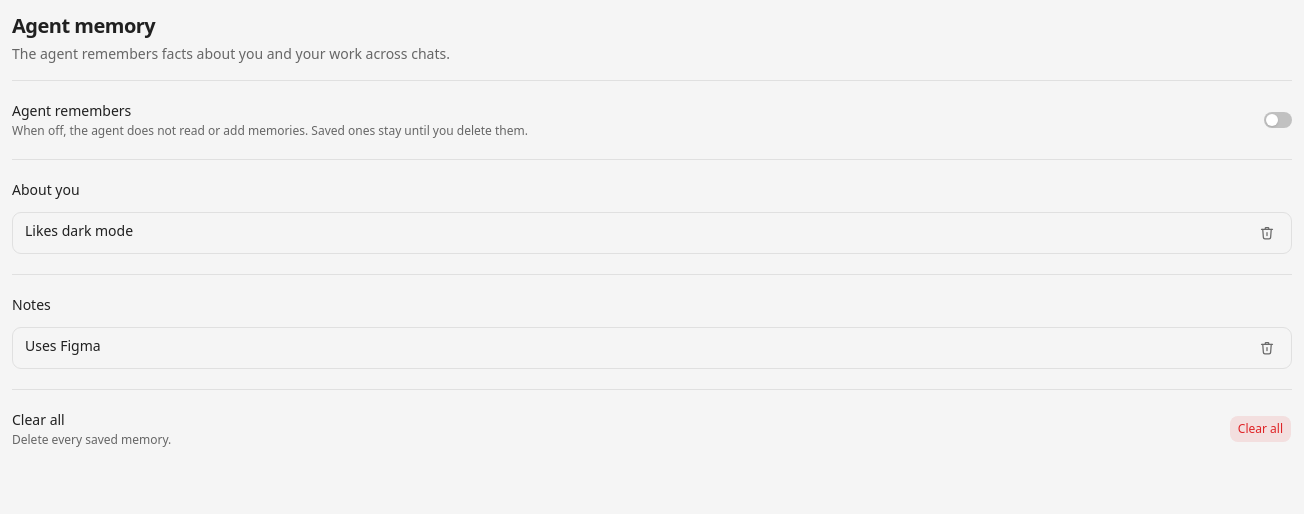
MemorySection › disables the switch while saving and rolls back to the value before the click
Step 1. Click the switch named "Agent remembers" → (1278, 120), box [1264,112,1292,128]
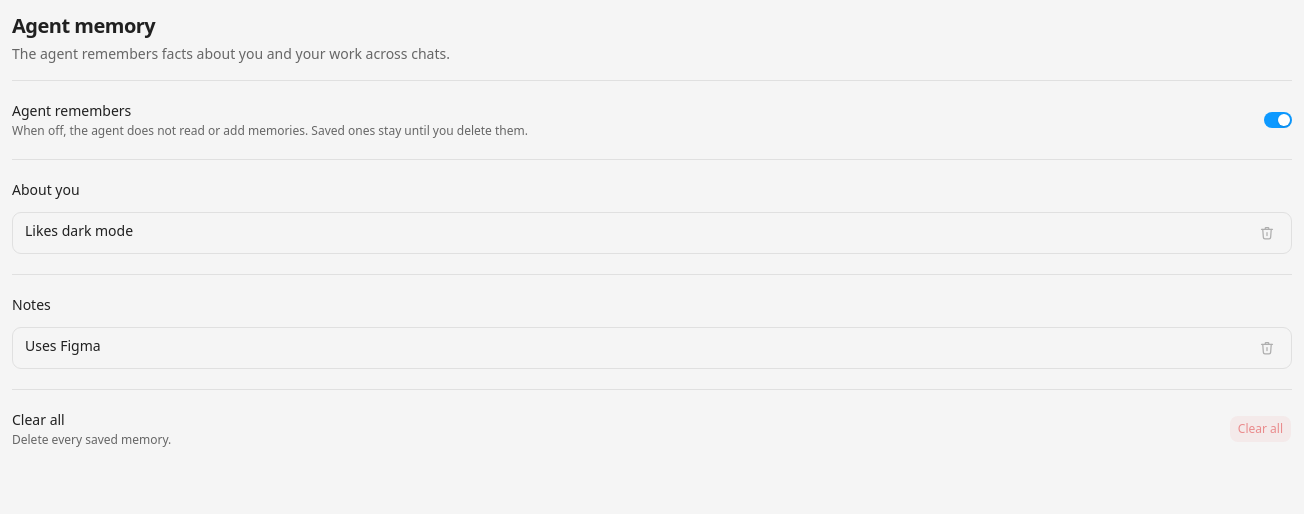
Expected: the switch named "Agent remembers" has attribute data-disabled
Step 2. Click the switch named "Agent remembers" → (1278, 120), box [1264,112,1292,128]
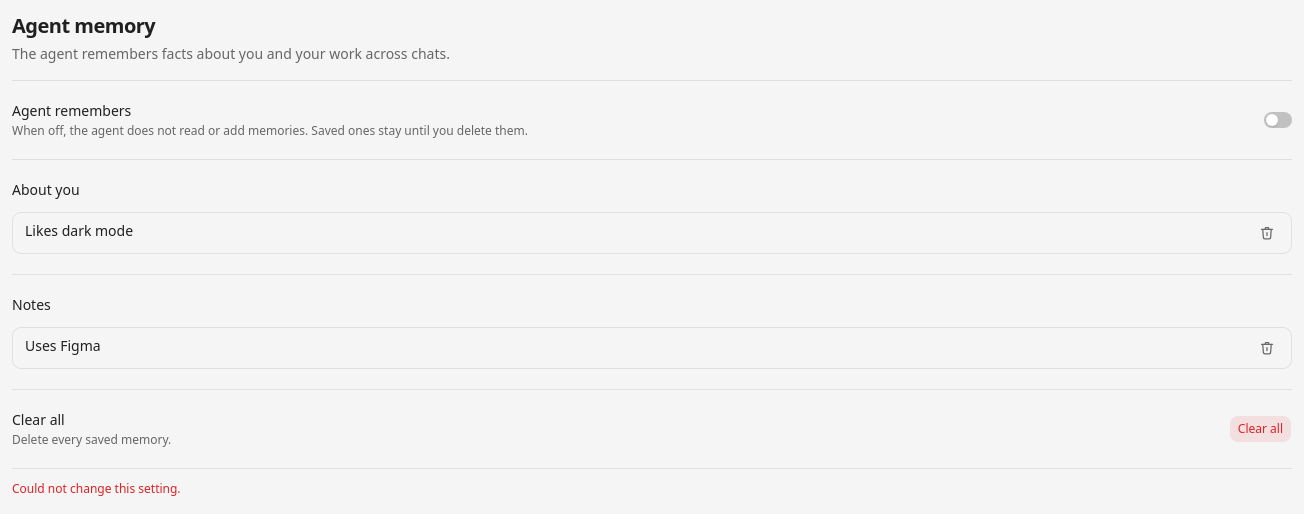
Expected: the text "Could not change this setting." is shown, [12,480,181,497]
